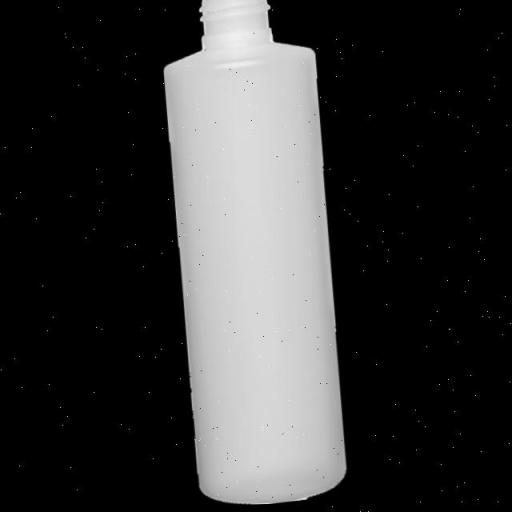plastic: (146, 0, 362, 509)
